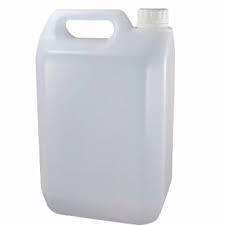Plastic canister: (24, 4, 182, 225)
